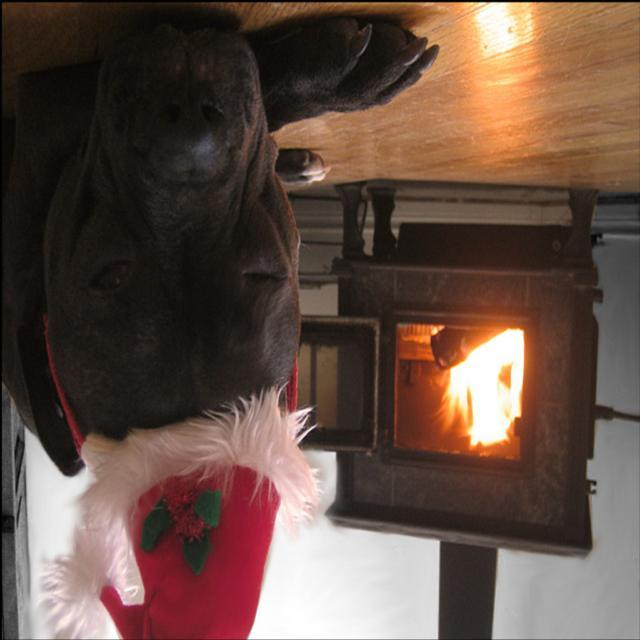Fire: (417, 328, 534, 462)
